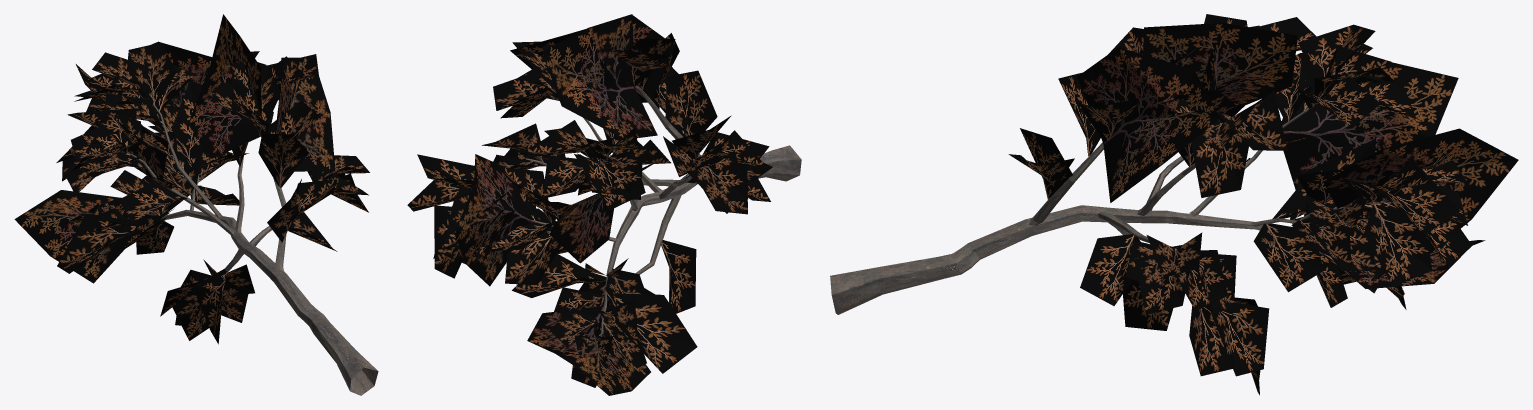
The model's file is House70.fbx.
The picture shows the model from 3 angles, left to right: view 1: azimuth 30°, elevation 25°; view 2: azimuth 150°, elevation 25°; view 3: azimuth 270°, elevation 25°; orthographic projection. The views are drawn at different scales.
Parts seen in each view (by area): view 1: AT_BGAgo_TrN13_11B.mo; view 2: AT_BGAgo_TrN13_11B.mo; view 3: AT_BGAgo_TrN13_11B.mo.
Boxes of the visible parts, left/top/right/bottom form: AT_BGAgo_TrN13_11B.mo: left=14, top=14, right=378, bottom=395; AT_BGAgo_TrN13_11B.mo: left=407, top=14, right=801, bottom=395; AT_BGAgo_TrN13_11B.mo: left=830, top=14, right=1518, bottom=395.
Size of the model in its own units: 2648 by 2845 by 4533.
